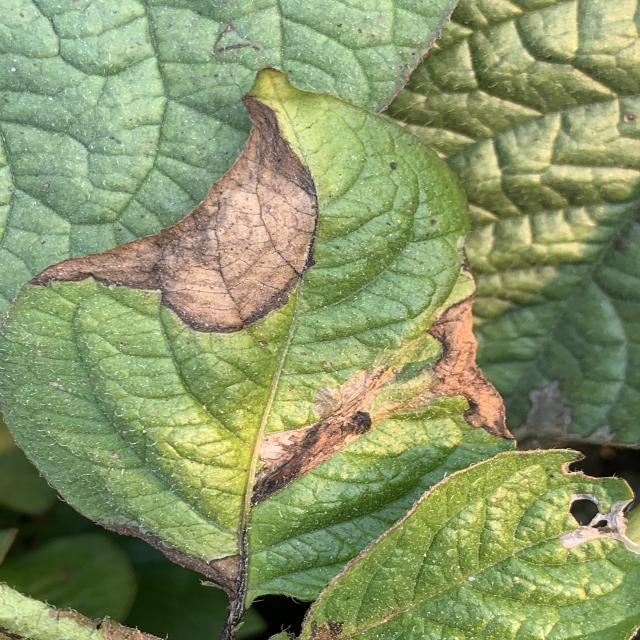lateblight: (30, 96, 318, 332), (252, 366, 393, 504), (428, 295, 512, 439), (103, 524, 240, 601)
